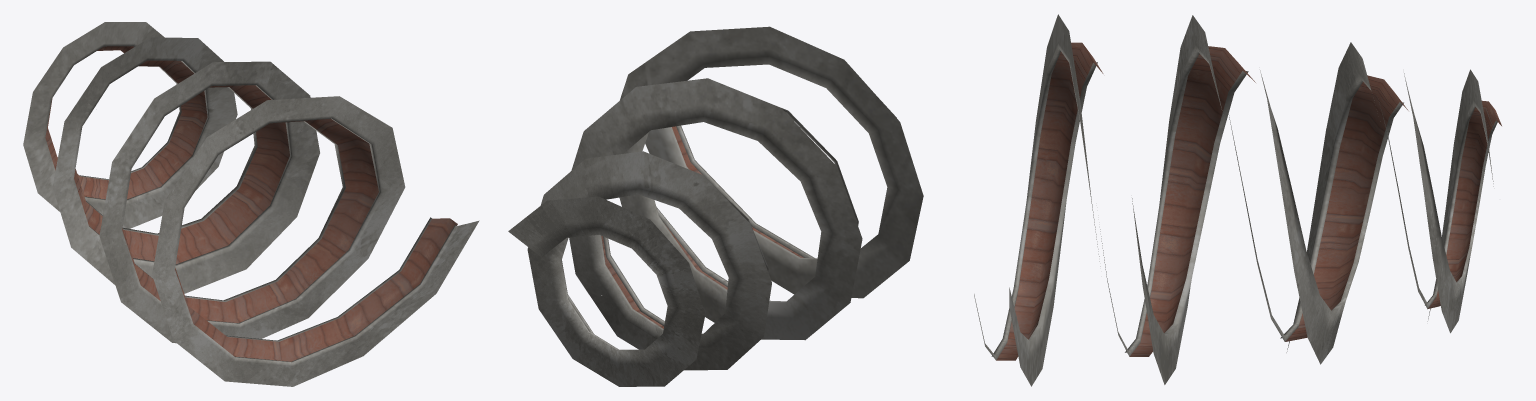
File: cocoa_snake.glb
3 views of the same model, side by side, from view 1: azimuth 30°, elevation 25°; view 2: azimuth 150°, elevation 25°; view 3: azimuth 270°, elevation 25° (orthographic). The views are drawn at different scales.
Visible parts, largest first — view 1: stktex_generic_concreteA.png__, stktex_generic_bambooB.png__; view 2: stktex_generic_concreteA.png__, stktex_generic_bambooB.png__; view 3: stktex_generic_bambooB.png__, stktex_generic_concreteA.png__.
Boxes of the visible parts, x1,y1,x2,y2 form: stktex_generic_concreteA.png__: (23,22,479,386); stktex_generic_bambooB.png__: (45,46,457,361); stktex_generic_concreteA.png__: (508,26,923,386); stktex_generic_bambooB.png__: (601,126,803,328); stktex_generic_bambooB.png__: (996,42,1501,360); stktex_generic_concreteA.png__: (974,14,1497,386).
Size of the model in its own units: 39.6 by 33.6 by 49.75.
Materials: 3 (2 with a texture image).
